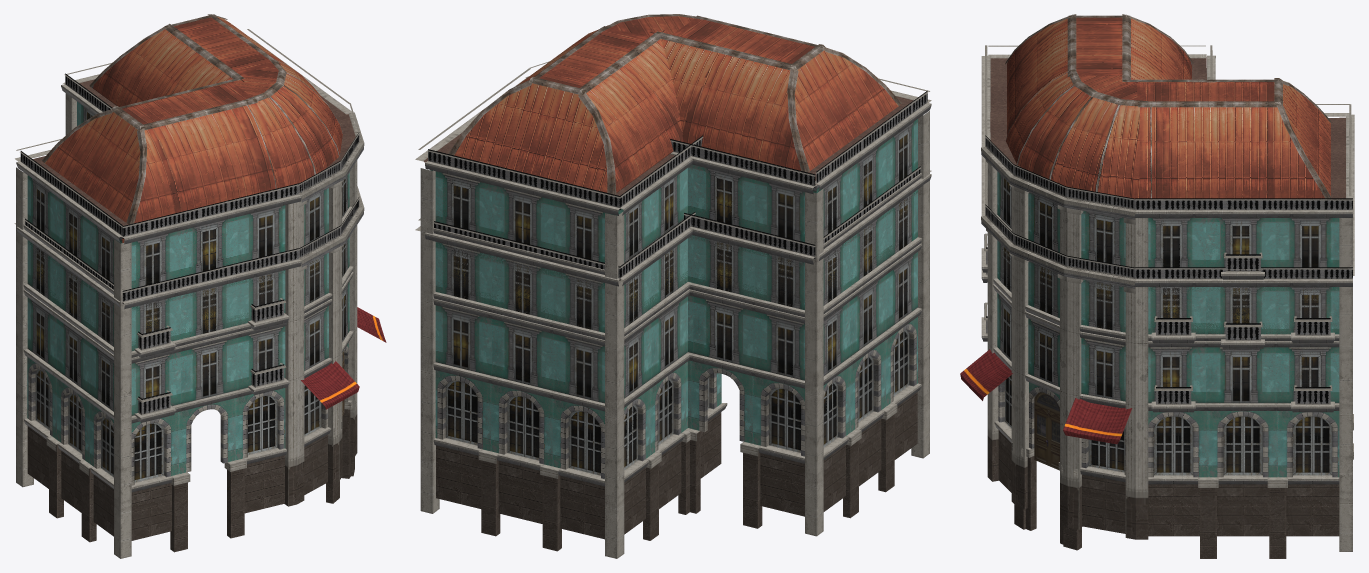
The model's file is tier4_corner.gltf.
3 views of the same model, side by side, from view 1: azimuth 30°, elevation 25°; view 2: azimuth 150°, elevation 25°; view 3: azimuth 270°, elevation 25° (orthographic). The views are drawn at different scales.
Visible parts, largest first — view 1: _lod0, roof-curved.002, ground-wall-gate.003, middle-wall.007, middle-wall.013, pillar-curved.002, middle-wall.008, ground-wall-curved.001, middle-wall-curved.001, top-fence.007, top-fence.013, pillar.005 (+19 smaller); view 2: _lod0, roof-curved.002, ground-wall.006, middle-wall.009, roof-straight.002, middle-wall.010, middle-wall.015, middle-wall.016, ground-wall-gate.002, ground-wall.007, pillar.007, pillar.004 (+17 smaller); view 3: _lod0, roof-curved.002, middle-wall.006, pillar-curved.002, middle-wall.012, ground-wall.001, middle-wall-curved.001, ground-wall-curved.001, middle-wall-curved.002, pillar-curved.003, top-fence.012, top-fence.006 (+16 smaller).
Part boxes in pixels (box(x1,y1,x2,y2)): _lod0: box(14, 17, 359, 558); roof-curved.002: box(42, 14, 342, 224); ground-wall-gate.003: box(131, 388, 286, 552); middle-wall.007: box(131, 271, 286, 423); middle-wall.013: box(124, 206, 285, 357); pillar-curved.002: box(284, 225, 357, 506); middle-wall.008: box(24, 276, 113, 415); ground-wall-curved.001: box(304, 343, 355, 503); middle-wall-curved.001: box(304, 237, 353, 378); top-fence.007: box(122, 248, 301, 308); top-fence.013: box(121, 183, 301, 244); pillar.005: box(120, 307, 131, 558); _lod0: box(415, 16, 931, 558); roof-curved.002: box(448, 14, 901, 194); ground-wall.006: box(433, 370, 604, 551); middle-wall.009: box(433, 242, 604, 410); roof-straight.002: box(594, 30, 800, 192); middle-wall.010: box(688, 235, 804, 388); middle-wall.015: box(430, 170, 604, 339); middle-wall.016: box(686, 164, 816, 317); ground-wall-gate.002: box(688, 360, 804, 516); ground-wall.007: box(624, 369, 726, 540); pillar.007: box(605, 282, 624, 558); pillar.004: box(420, 239, 439, 513); _lod0: box(981, 17, 1354, 558); roof-curved.002: box(1005, 14, 1331, 198); middle-wall.006: box(1148, 287, 1339, 410); pillar-curved.002: box(987, 232, 1148, 539); middle-wall.012: box(1148, 218, 1339, 340); ground-wall.001: box(1148, 411, 1339, 537); middle-wall-curved.001: box(993, 240, 1125, 407); ground-wall-curved.001: box(994, 375, 1125, 550); middle-wall-curved.002: box(993, 171, 1125, 339); pillar-curved.003: box(987, 163, 1148, 350); top-fence.012: box(1135, 198, 1352, 217); top-fence.006: box(1135, 267, 1352, 286).
Size of the model in its own units: 2.65 by 3.13 by 2.65.
Materials: 1 (1 with a texture image).
